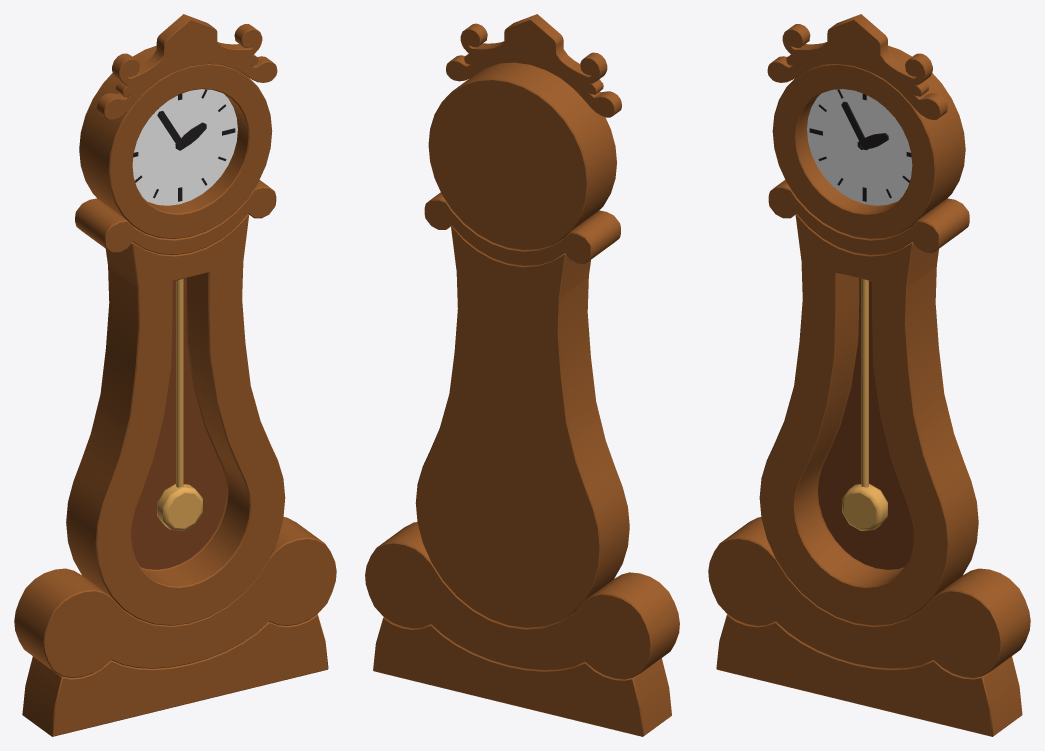
Rendered from Clock3.fbx.
The picture shows the model from 3 angles, left to right: view 1: azimuth 30°, elevation 25°; view 2: azimuth 150°, elevation 25°; view 3: azimuth 330°, elevation 25°; orthographic projection. The views are drawn at different scales.
Visible parts, largest first — view 1: Clock3; view 2: Clock3; view 3: Clock3.
Part boxes in pixels (x1,y1,x2,y2): Clock3: [14, 14, 336, 736]; Clock3: [365, 14, 679, 736]; Clock3: [708, 14, 1030, 736].
Bounding box in the file's own units: 0.8751 × 1.95 × 0.1578.
